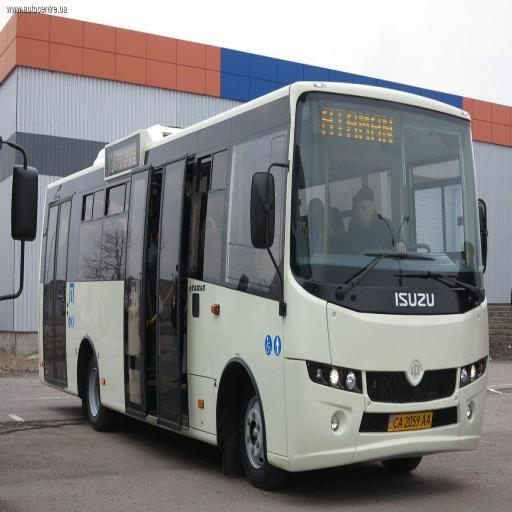bicycle: (34, 76, 496, 504)
corridor: (119, 163, 191, 439)
laptop: (334, 176, 412, 270)
